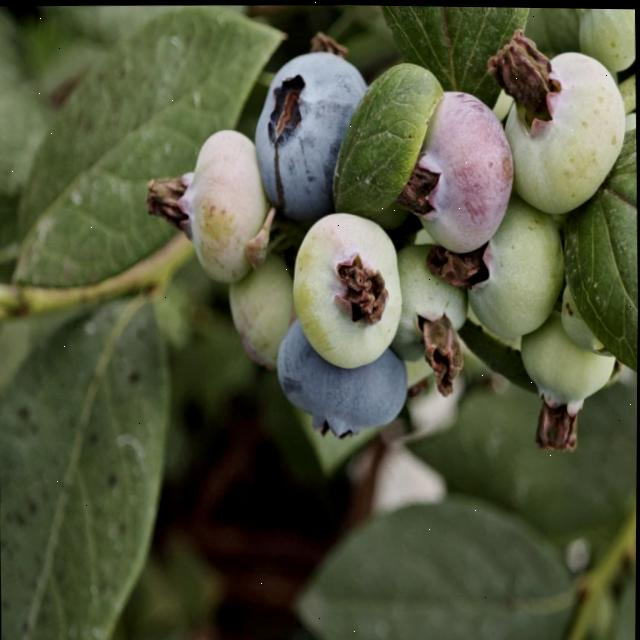RipeBlueBerry: (249, 45, 371, 218), (273, 322, 410, 436)
Semi-RipeBlueBerry: (399, 83, 517, 255)
UnripeBlueBerry: (503, 41, 628, 216), (290, 206, 407, 371), (173, 126, 265, 287), (461, 202, 566, 342), (517, 314, 616, 423), (386, 239, 469, 361)
